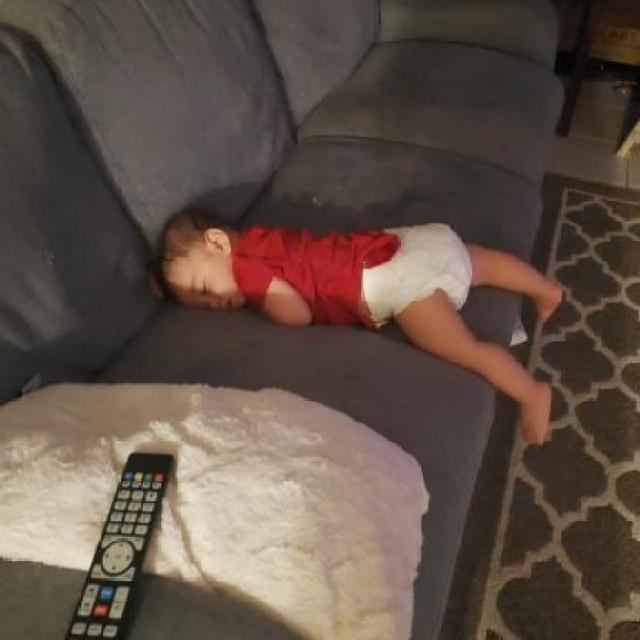baby: (156, 203, 562, 449)
